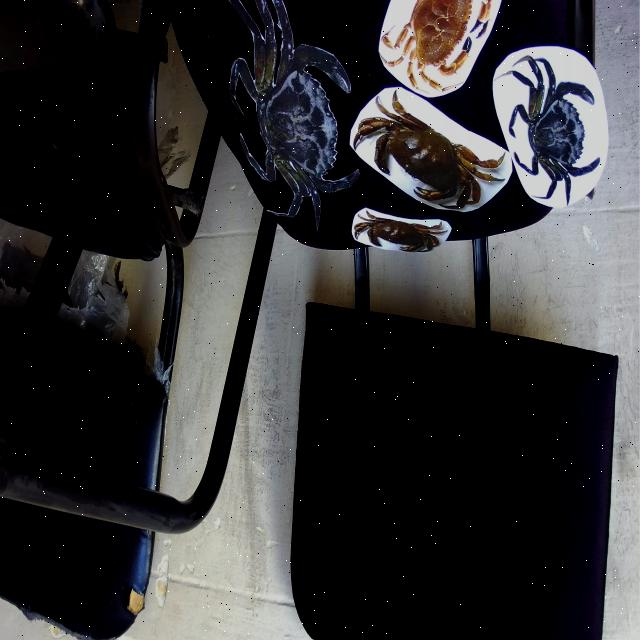European_Green_Crab: (208, 0, 375, 266), (493, 13, 613, 234)
